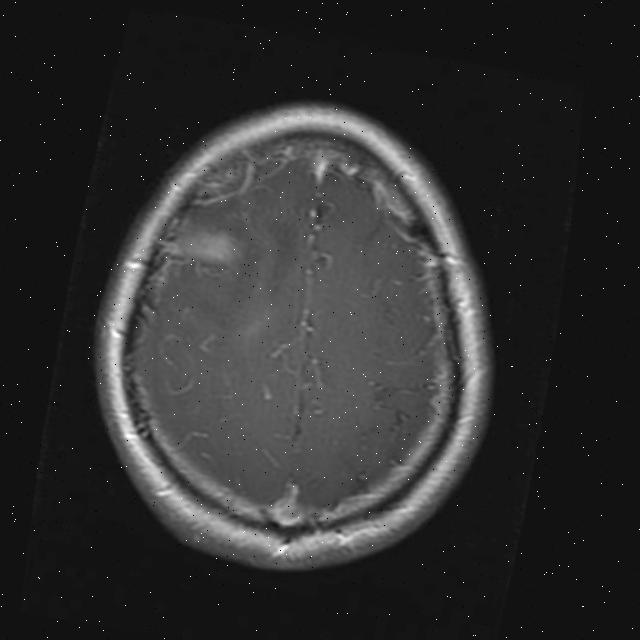Glioma: (168, 222, 244, 273)
